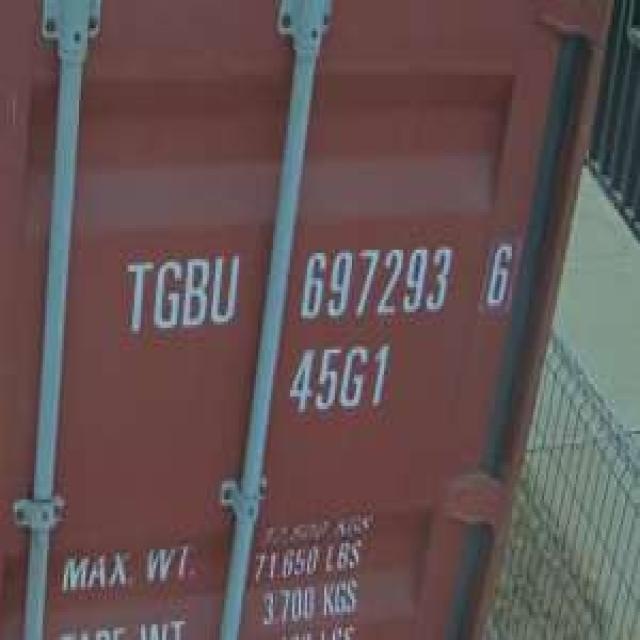dv: (478, 233, 516, 316)
owner: (117, 245, 244, 336)
serial: (297, 240, 455, 327)
size: (284, 338, 392, 426)
